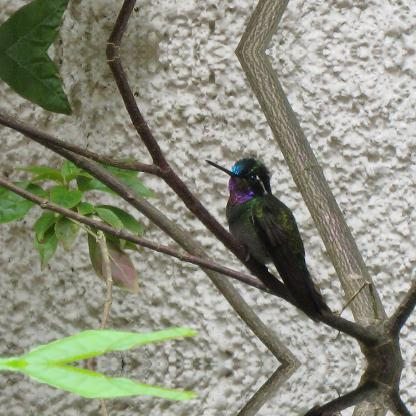Bird: (206, 147, 352, 333)
